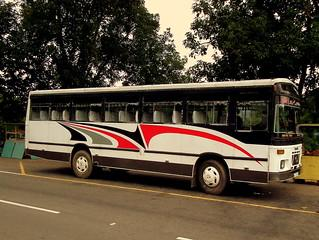bus: (23, 75, 303, 202)
